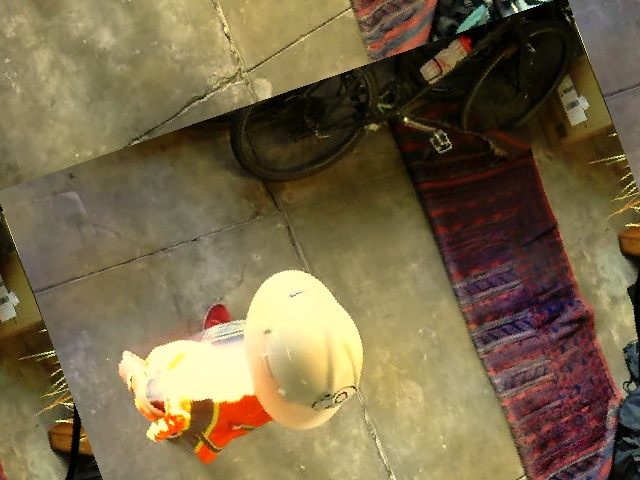eight: (307, 380, 362, 414)
